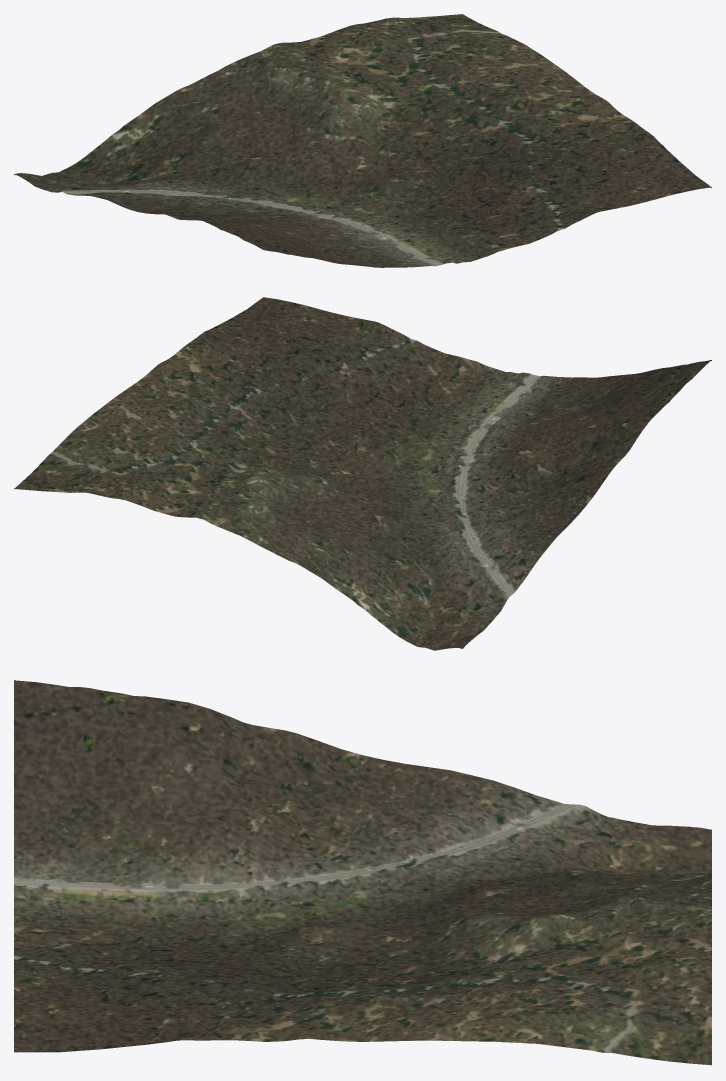
The picture shows the model from 3 angles, top to bottom: view 1: azimuth 30°, elevation 25°; view 2: azimuth 150°, elevation 25°; view 3: azimuth 270°, elevation 25°; orthographic projection. The views are drawn at different scales.
Bounding box in the file's own units: 500 × 124 × 481.
1 material, 1 textured.
